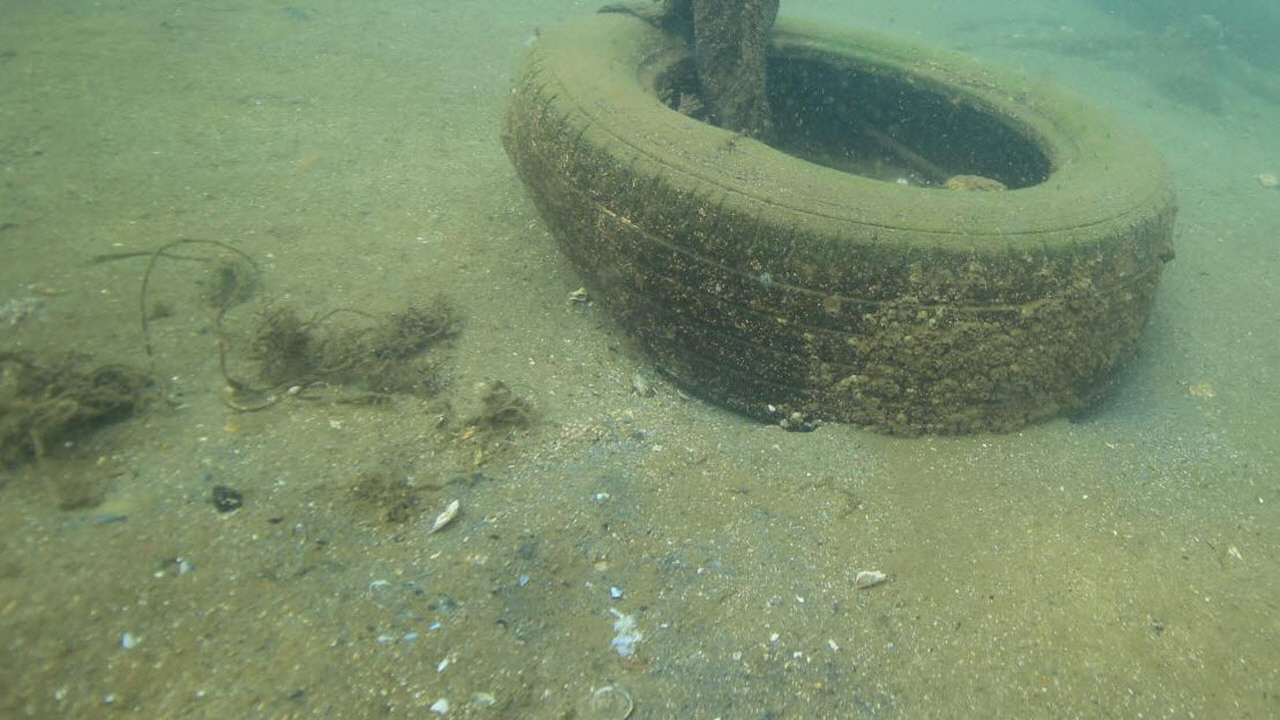tire: (498, 8, 1176, 433)
